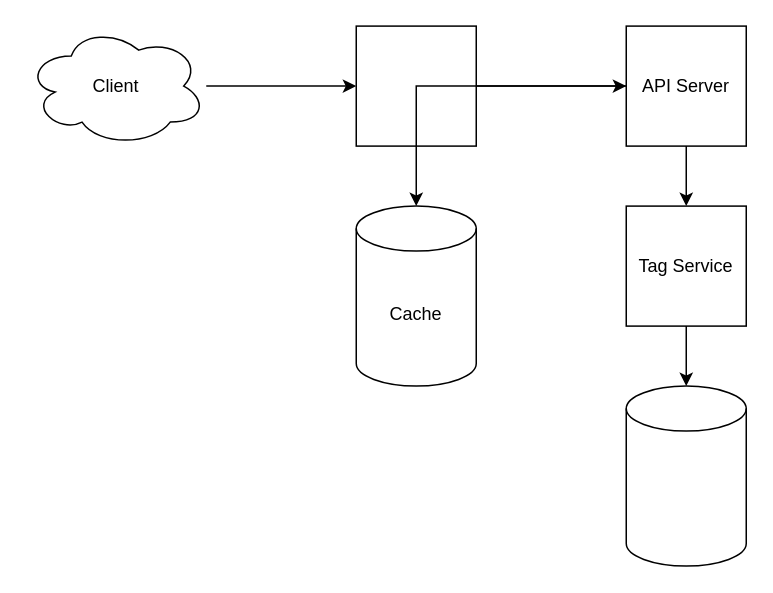
The diagram is 773 pixels wide and 593 high, and some of its shapes have lost their labels. The shapes that lost their labels are listed below. From the top down, each one's box as (x1, y1, x2, y2) in pixels, then its label:
(355, 25, 476, 146): Load Balancer
(625, 385, 746, 566): Database
